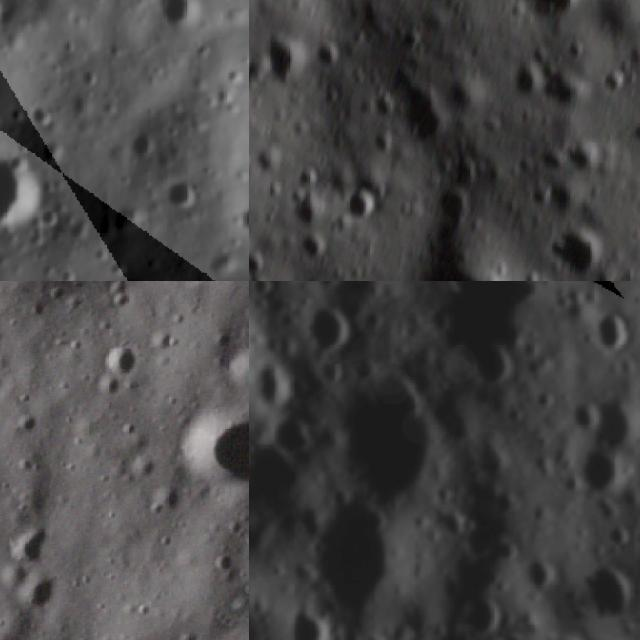crater: (281, 476, 441, 640), (320, 348, 472, 513), (162, 376, 249, 514), (449, 322, 529, 405), (567, 435, 640, 511), (290, 294, 361, 367), (260, 400, 326, 466), (581, 293, 640, 366), (272, 589, 347, 640), (4, 512, 64, 574), (140, 468, 200, 530), (10, 562, 70, 622), (511, 548, 570, 604), (558, 389, 613, 445), (96, 331, 151, 386), (397, 83, 452, 137), (546, 232, 610, 278), (0, 162, 43, 228), (119, 437, 171, 489), (255, 38, 309, 87), (97, 281, 148, 321), (519, 0, 581, 31), (596, 513, 640, 556), (150, 0, 204, 33), (224, 328, 249, 391), (162, 176, 196, 215), (508, 68, 547, 102), (566, 140, 600, 176), (431, 197, 473, 226), (157, 281, 221, 300), (344, 188, 376, 222), (250, 147, 282, 179), (314, 38, 344, 72), (599, 66, 633, 93), (290, 194, 316, 228), (444, 157, 474, 186), (627, 374, 640, 440), (397, 26, 428, 53), (287, 166, 319, 192), (368, 128, 393, 158), (369, 94, 392, 116), (627, 120, 640, 146), (249, 254, 262, 274), (80, 274, 108, 281)
